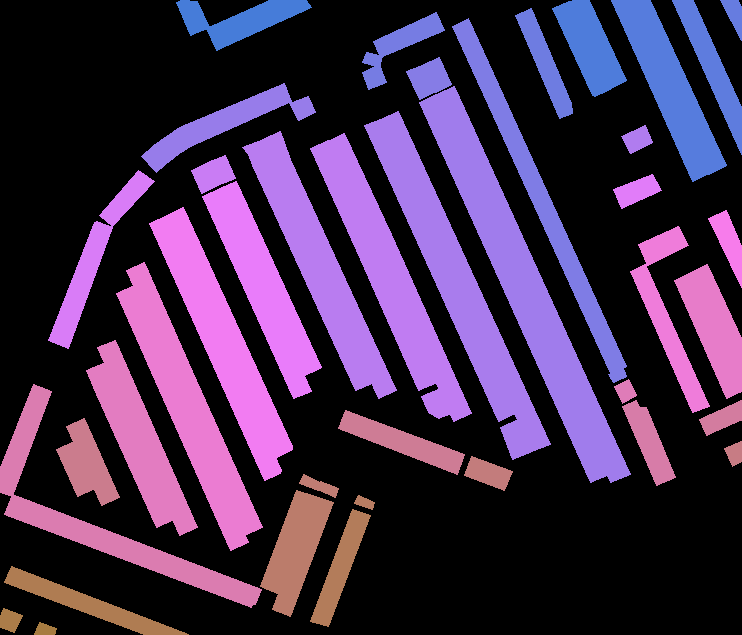parkingspot: (436, 86, 630, 482), (419, 94, 609, 482), (452, 18, 626, 382), (382, 111, 550, 451), (364, 118, 516, 421), (327, 133, 471, 421), (126, 262, 262, 535), (149, 215, 281, 480), (116, 285, 248, 550), (242, 139, 372, 390), (310, 140, 437, 390), (166, 207, 292, 458), (272, 157, 396, 398), (4, 494, 261, 607), (202, 188, 311, 398), (219, 181, 321, 376), (97, 340, 197, 535), (611, 0, 709, 181), (630, 0, 726, 174), (86, 362, 174, 527), (141, 83, 291, 172), (4, 566, 193, 635), (630, 264, 709, 412), (672, 0, 742, 156), (674, 272, 742, 398), (48, 221, 112, 348), (338, 410, 464, 474), (272, 496, 333, 616), (310, 509, 370, 626), (515, 8, 572, 118), (690, 264, 742, 382), (260, 490, 315, 594), (0, 384, 51, 496), (552, 1, 610, 96), (206, 0, 311, 50), (568, 0, 626, 89), (66, 418, 119, 505), (622, 400, 675, 485), (373, 12, 444, 57), (99, 170, 154, 226), (708, 210, 742, 291), (56, 441, 95, 496), (638, 226, 688, 265), (464, 456, 512, 490), (613, 174, 661, 208), (699, 400, 742, 435), (500, 419, 532, 459), (176, 0, 209, 35), (406, 64, 436, 99), (423, 57, 451, 92), (262, 131, 290, 166), (720, 0, 742, 43), (421, 388, 451, 418), (621, 125, 652, 153), (207, 155, 235, 185), (191, 162, 218, 193), (289, 96, 315, 120), (362, 64, 386, 89), (614, 379, 636, 403), (0, 608, 22, 632), (724, 441, 742, 466), (317, 481, 338, 497), (299, 474, 320, 490), (362, 52, 382, 67), (34, 622, 56, 635), (354, 495, 374, 509)
